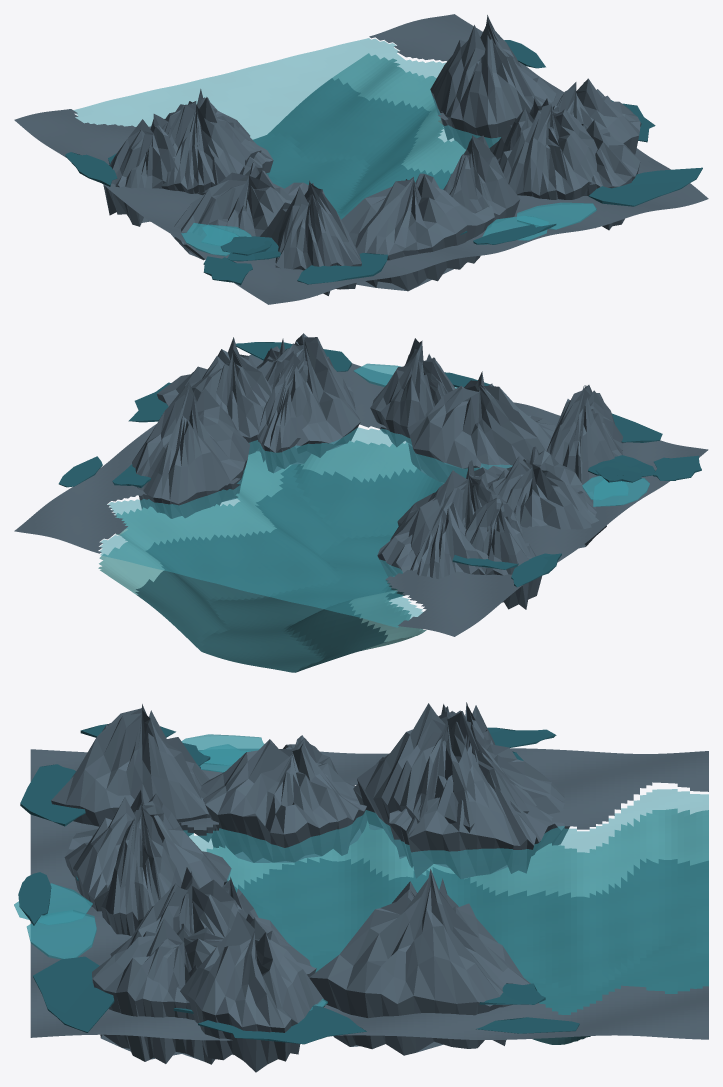
Rendered from water_tile_08.glb.
3 views of the same model, one above another, from view 1: azimuth 30°, elevation 25°; view 2: azimuth 150°, elevation 25°; view 3: azimuth 270°, elevation 25° (orthographic). The views are drawn at different scales.
Parts seen in each view (by area): view 1: glacial water surface 08, single continuous dark slate shoreline.008, submerged mineral riverbed.008, angular fractured shoreline ledge.085, angular fractured shoreline ledge.080, angular fractured shoreline ledge.083, angular fractured shoreline ledge.088, visible shallow mineral shelves.008, angular fractured shoreline ledge.086, angular fractured shoreline ledge.089, angular fractured shoreline ledge.090, angular fractured shoreline ledge.087 (+16 smaller); view 2: glacial water surface 08, submerged mineral riverbed.008, single continuous dark slate shoreline.008, visible shallow mineral shelves.008, angular fractured shoreline ledge.080, angular fractured shoreline ledge.085, angular fractured shoreline ledge.089, angular fractured shoreline ledge.083, angular fractured shoreline ledge.082, angular fractured shoreline ledge.086, angular fractured shoreline ledge.081, angular fractured shoreline ledge.091 (+14 smaller); view 3: glacial water surface 08, submerged mineral riverbed.008, single continuous dark slate shoreline.008, angular fractured shoreline ledge.080, angular fractured shoreline ledge.089, angular fractured shoreline ledge.091, visible shallow mineral shelves.008, angular fractured shoreline ledge.082, angular fractured shoreline ledge.086, angular fractured shoreline ledge.088, angular fractured shoreline ledge.084, angular fractured shoreline ledge.085 (+14 smaller).
Part boxes in pixels (left/top/right/bottom): glacial water surface 08: left=73, top=38, right=500, bottom=219; single continuous dark slate shoreline.008: left=14, top=14, right=708, bottom=304; submerged mineral riverbed.008: left=253, top=78, right=452, bottom=219; angular fractured shoreline ledge.085: left=341, top=173, right=494, bottom=291; angular fractured shoreline ledge.080: left=430, top=15, right=556, bottom=149; angular fractured shoreline ledge.083: left=497, top=98, right=597, bottom=199; angular fractured shoreline ledge.088: left=161, top=89, right=261, bottom=195; visible shallow mineral shelves.008: left=332, top=53, right=465, bottom=175; angular fractured shoreline ledge.086: left=260, top=180, right=361, bottom=295; angular fractured shoreline ledge.089: left=171, top=161, right=308, bottom=260; angular fractured shoreline ledge.090: left=103, top=114, right=178, bottom=226; angular fractured shoreline ledge.087: left=443, top=135, right=520, bottom=222; glacial water surface 08: left=100, top=427, right=512, bottom=627; submerged mineral riverbed.008: left=135, top=464, right=443, bottom=672; single continuous dark slate shoreline.008: left=14, top=354, right=708, bottom=636; visible shallow mineral shelves.008: left=98, top=440, right=426, bottom=650; angular fractured shoreline ledge.080: left=132, top=380, right=250, bottom=518; angular fractured shoreline ledge.085: left=407, top=371, right=555, bottom=483; angular fractured shoreline ledge.089: left=466, top=446, right=606, bottom=548; angular fractured shoreline ledge.083: left=264, top=333, right=360, bottom=457; angular fractured shoreline ledge.082: left=157, top=337, right=271, bottom=454; angular fractured shoreline ledge.086: left=546, top=385, right=623, bottom=486; angular fractured shoreline ledge.081: left=257, top=351, right=333, bottom=473; angular fractured shoreline ledge.091: left=377, top=480, right=516, bottom=578; glacial water surface 08: left=183, top=789, right=708, bottom=1014; submerged mineral riverbed.008: left=234, top=858, right=708, bottom=1044; single continuous dark slate shoreline.008: left=30, top=748, right=708, bottom=1040; angular fractured shoreline ledge.080: left=309, top=869, right=530, bottom=1055; angular fractured shoreline ledge.089: left=201, top=735, right=367, bottom=862; angular fractured shoreline ledge.091: left=353, top=722, right=569, bottom=879; visible shallow mineral shelves.008: left=206, top=808, right=708, bottom=897; angular fractured shoreline ledge.082: left=180, top=911, right=326, bottom=1072; angular fractured shoreline ledge.086: left=51, top=704, right=214, bottom=842; angular fractured shoreline ledge.088: left=357, top=703, right=536, bottom=854; angular fractured shoreline ledge.084: left=92, top=918, right=233, bottom=1064; angular fractured shoreline ledge.085: left=64, top=790, right=231, bottom=911.
Bounding box in the file's own units: 1.13 × 0.3751 × 1.02.
